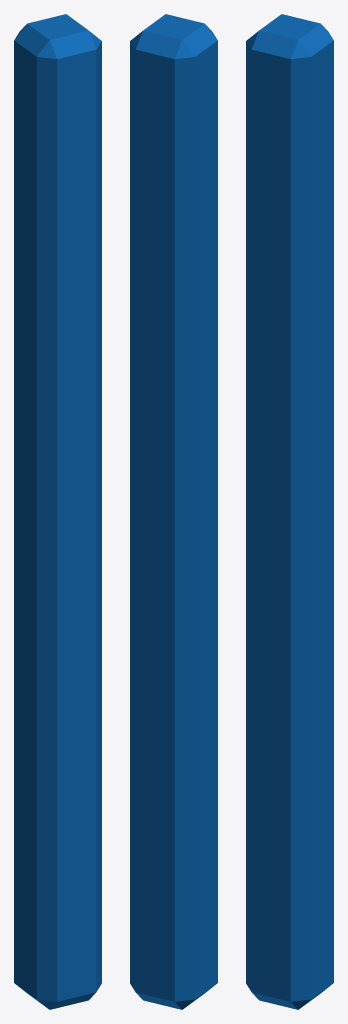
File: prism_save_flag_inactive.obj
3 views of the same model, side by side, from view 1: azimuth 30°, elevation 25°; view 2: azimuth 150°, elevation 25°; view 3: azimuth 330°, elevation 25° (orthographic).
Visible parts, largest first — view 1: PrismSaveFlag_Inactive; view 2: PrismSaveFlag_Inactive; view 3: PrismSaveFlag_Inactive.
Boxes of the visible parts, bbox=[...] form: PrismSaveFlag_Inactive: bbox=[14, 14, 101, 1009]; PrismSaveFlag_Inactive: bbox=[130, 14, 217, 1009]; PrismSaveFlag_Inactive: bbox=[246, 14, 333, 1009].
Bounding box in the file's own units: 0.09 × 1.28 × 0.09.
1 material, 1 textured.
